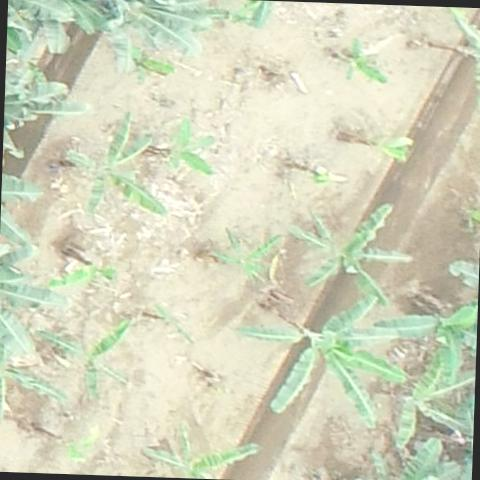Banana-plant: (228, 284, 410, 436), (280, 198, 418, 310), (60, 104, 169, 224), (32, 318, 146, 404), (377, 356, 476, 451), (372, 292, 478, 380), (142, 420, 262, 480), (209, 227, 291, 292), (158, 120, 226, 178), (340, 38, 402, 90)
